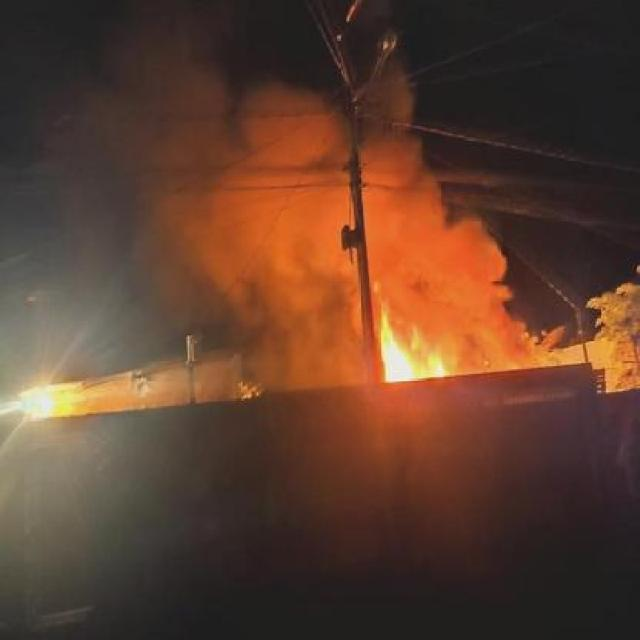Fire: (376, 310, 448, 383)
Smoke: (222, 99, 492, 308), (79, 25, 223, 282), (274, 322, 376, 385), (472, 312, 524, 382)
